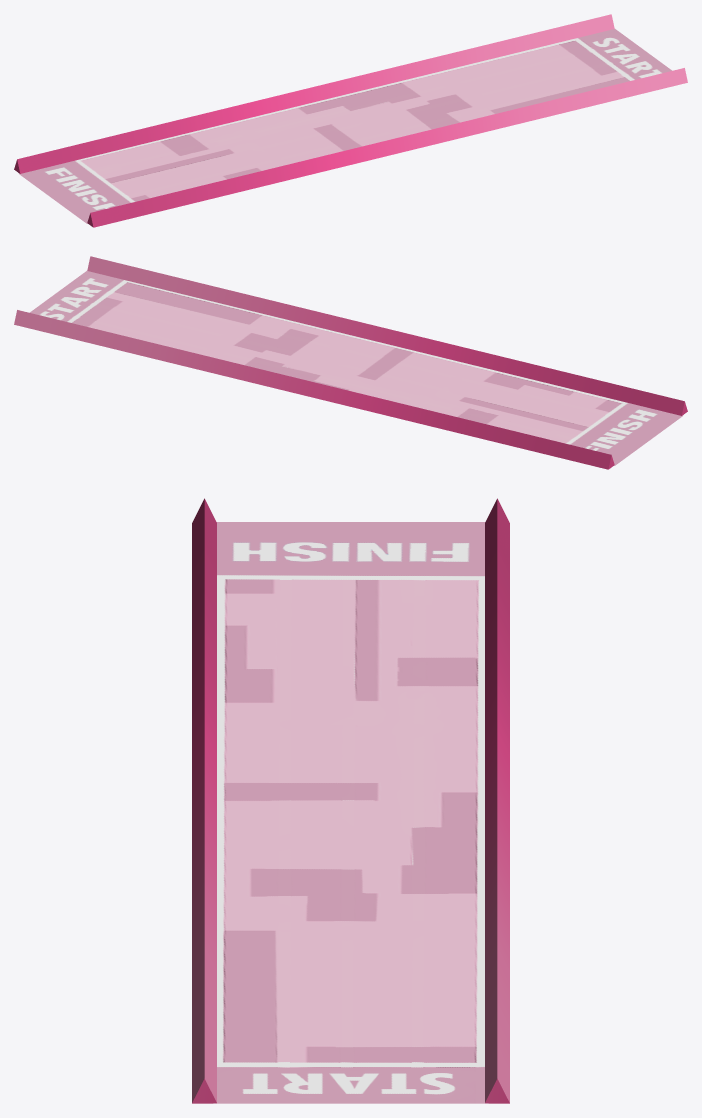
File: Trackpink.FBX
The picture shows the model from 3 angles, top to bottom: view 1: azimuth 30°, elevation 25°; view 2: azimuth 150°, elevation 25°; view 3: azimuth 270°, elevation 25°; orthographic projection. The views are drawn at different scales.
Visible parts, largest first — view 1: Plane009; view 2: Plane009; view 3: Plane009.
Boxes of the visible parts, <box> form: Plane009: <box>14,14,687,227</box>; Plane009: <box>14,256,687,469</box>; Plane009: <box>192,498,509,1103</box>.
Size of the model in its own units: 350 by 7.07 by 80.9.
2 materials, 2 textured.
